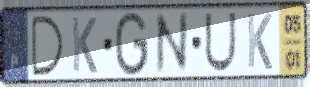D: (29, 15, 67, 79)
G: (114, 11, 150, 79)
K: (70, 14, 99, 75), (245, 11, 274, 72)
N: (153, 10, 191, 78)
U: (203, 10, 238, 74)
